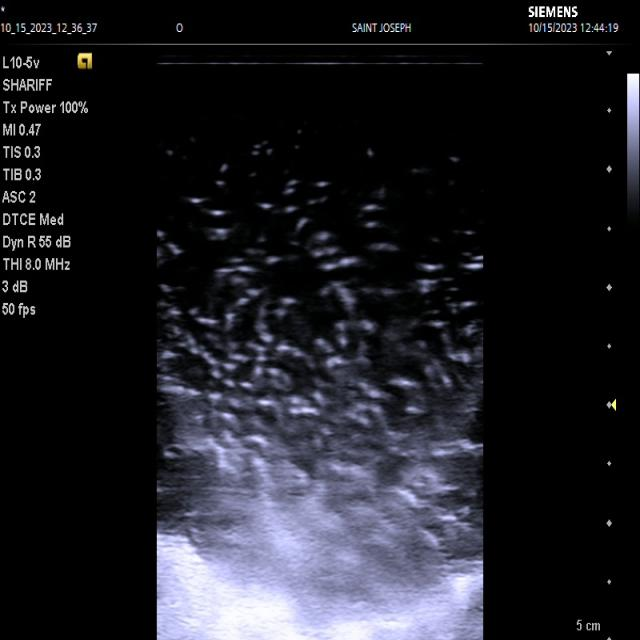tissue: (155, 534, 485, 640)
